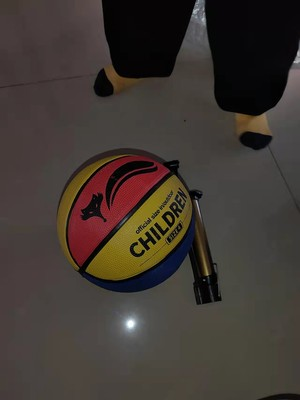ball: (55, 148, 197, 294)
